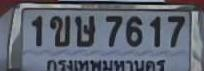1: (149, 15, 160, 46), (31, 14, 41, 46)
6: (125, 14, 141, 46)
7: (167, 14, 184, 46), (105, 14, 121, 46)
A02: (49, 14, 70, 46)
A39: (74, 14, 95, 46)
BKK: (44, 57, 167, 71)
